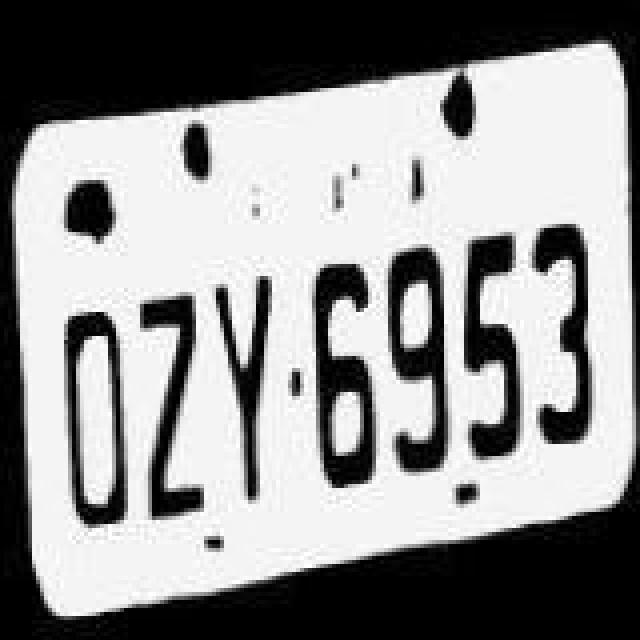3: (520, 210, 600, 470)
5: (446, 216, 530, 484)
6: (304, 254, 380, 514)
9: (382, 238, 450, 494)
O: (54, 292, 142, 556)
Y: (212, 268, 288, 536)
Z: (134, 286, 214, 550)
